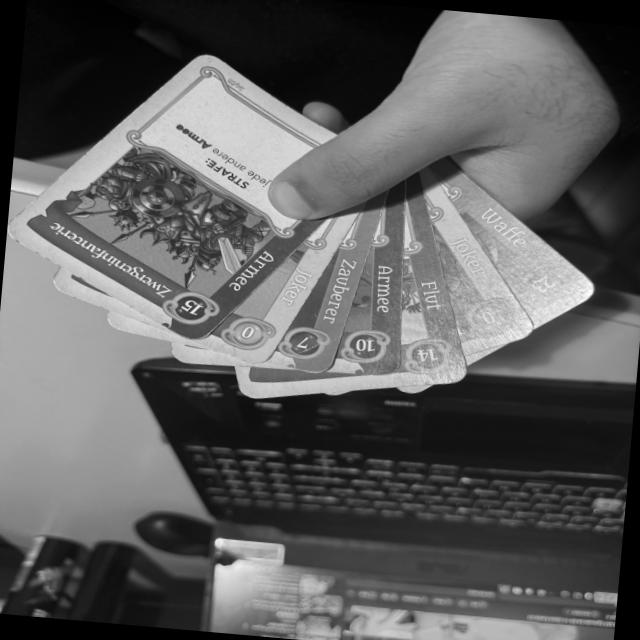Collector: (264, 195, 387, 373)
Doppelganger: (415, 164, 536, 355)
Dwarvish Infantry: (6, 51, 336, 343)
Elven Archers: (329, 179, 406, 376)
Island: (396, 172, 468, 386)
Mirage: (202, 200, 371, 367)
Warship: (429, 157, 604, 327)
